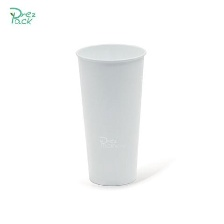paper_cup: (71, 40, 150, 189)
